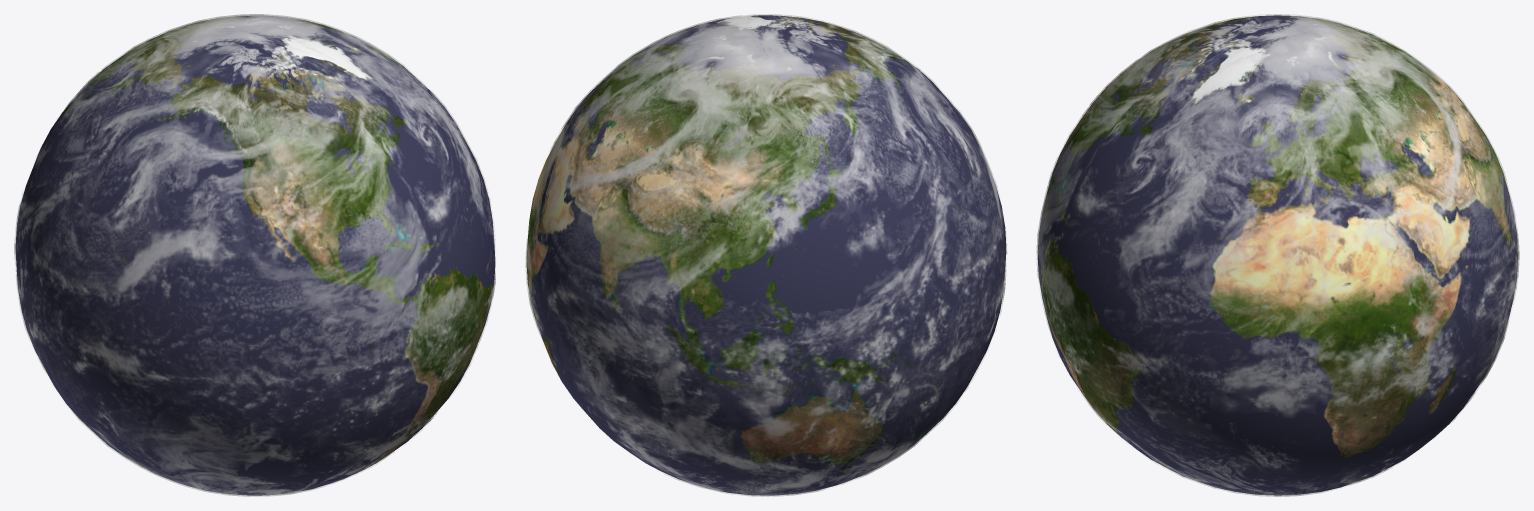
3 views of the same model, side by side, from view 1: azimuth 30°, elevation 25°; view 2: azimuth 150°, elevation 25°; view 3: azimuth 270°, elevation 25° (orthographic).
Parts seen in each view (by area): view 1: Earth_0, Clouds_1; view 2: Earth_0, Clouds_1; view 3: Earth_0, Clouds_1.
Boxes of the visible parts, x1=… form: Earth_0: x1=15, y1=15, x2=495, y2=495; Clouds_1: x1=14, y1=14, x2=495, y2=496; Earth_0: x1=526, y1=15, x2=1006, y2=495; Clouds_1: x1=525, y1=14, x2=1007, y2=496; Earth_0: x1=1037, y1=15, x2=1518, y2=495; Clouds_1: x1=1036, y1=14, x2=1519, y2=496.
Size of the model in its own units: 1155 by 1155 by 1155.
2 materials, 2 textured.
